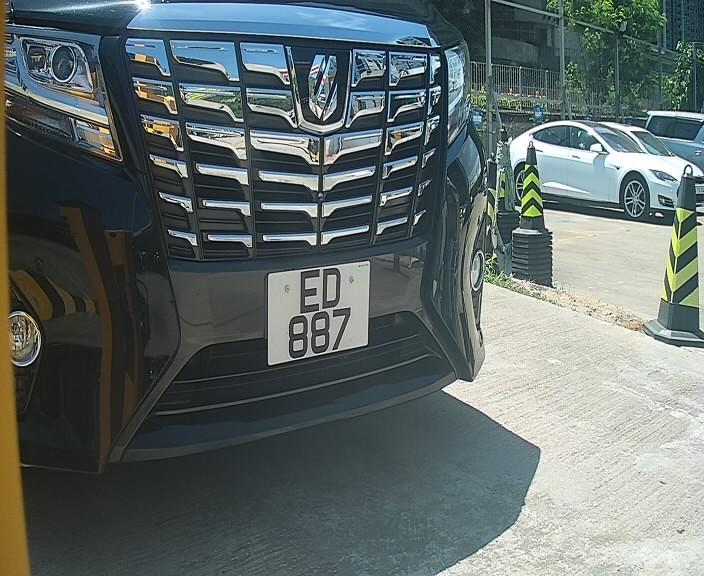privatecar: (13, 16, 478, 458)
